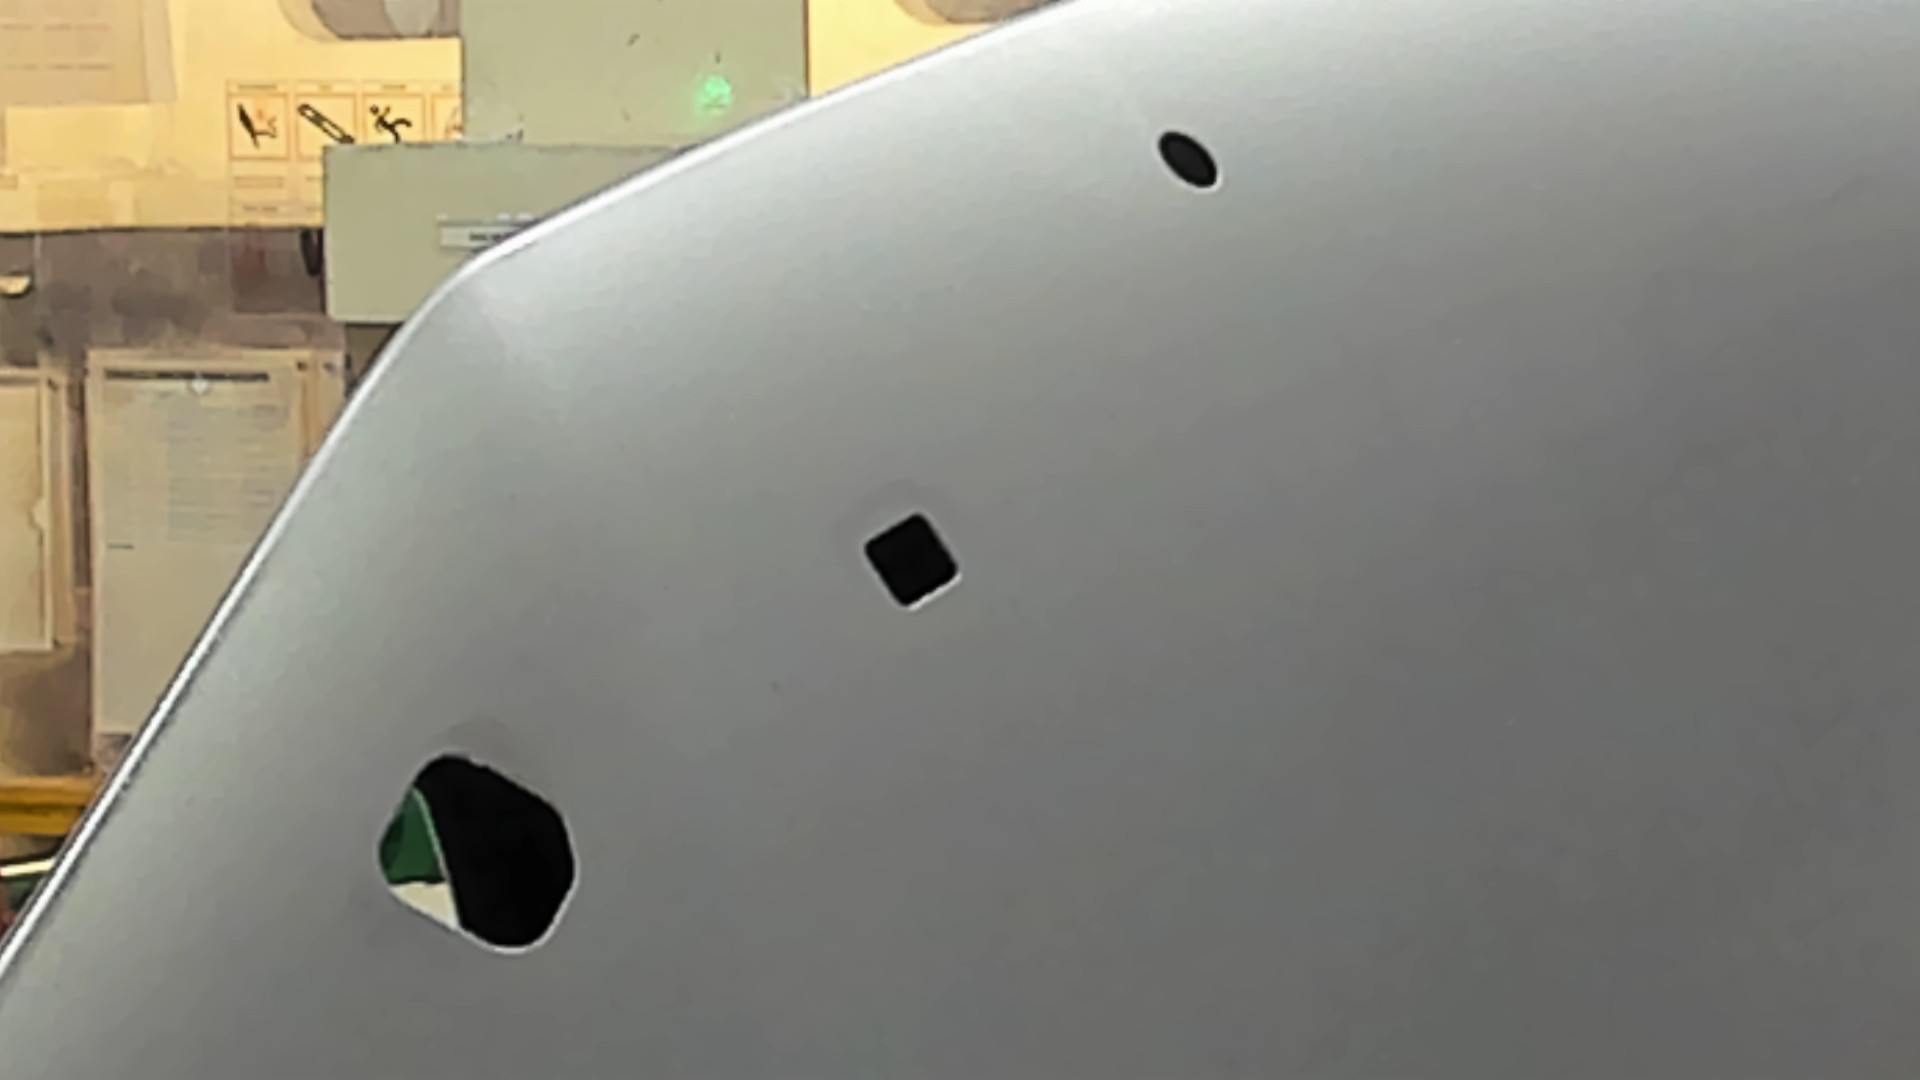chico: (1142, 113, 1251, 211)
grande: (351, 741, 592, 981)
mediano: (843, 500, 977, 622)
